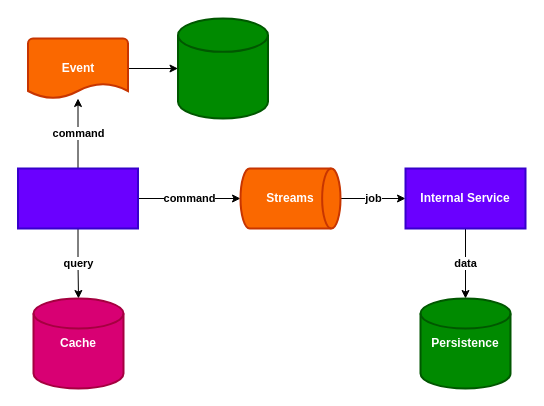
The diagram is 544 pixels wide and 406 high, and some of its shapes have lost their labels. The shapes that lost their labels are listed below. From the top down, each one's centre as x and y in pixels, then its label:
At point (222, 68): "Event Store".
At point (77, 198): "Edge API".
